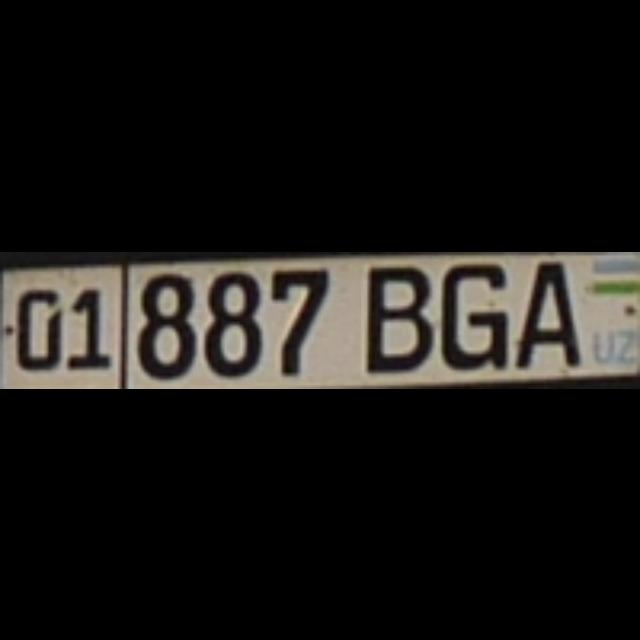0: (10, 286, 54, 369)
1: (64, 284, 106, 366)
7: (269, 267, 327, 373)
8: (131, 270, 189, 376), (198, 267, 256, 373)
A: (508, 257, 576, 363)
B: (362, 264, 428, 370)
G: (436, 260, 502, 366)
